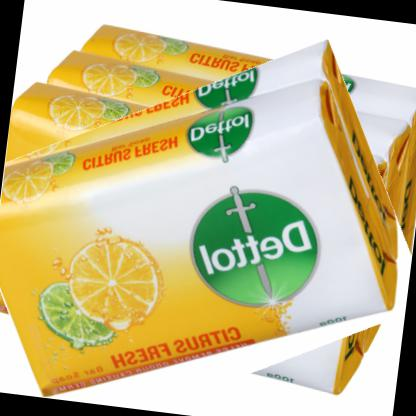soap: (0, 40, 415, 415)
